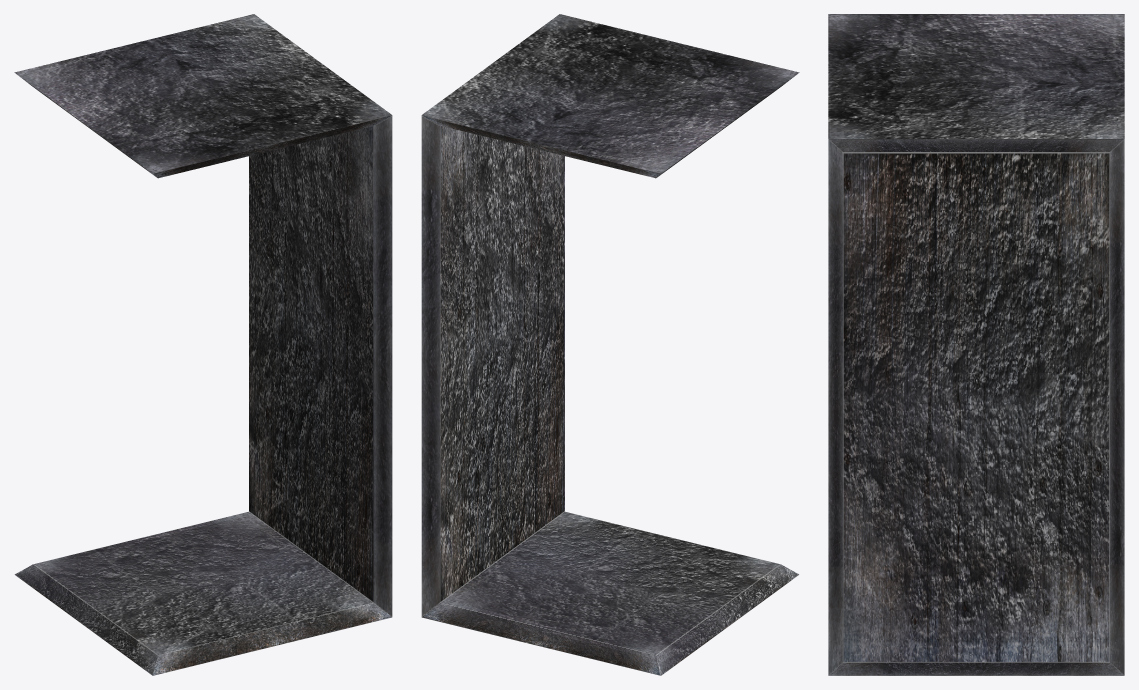
File: block3.fbx
The picture shows the model from 3 angles, left to right: view 1: azimuth 30°, elevation 25°; view 2: azimuth 150°, elevation 25°; view 3: azimuth 270°, elevation 25°; orthographic projection. The views are drawn at different scales.
Visible parts, largest first — view 1: Wall, Top, bottom:polySurface1, Frame; view 2: Wall, Top, bottom:polySurface1, Frame; view 3: Wall, Top, Frame.
Part boxes in pixels (x1=…): Wall: x1=249, y1=126, x2=373, y2=602; Top: x1=14, y1=14, x2=392, y2=178; bottom:polySurface1: x1=14, y1=511, x2=392, y2=675; Frame: x1=373, y1=116, x2=392, y2=616; Wall: x1=440, y1=126, x2=564, y2=602; Top: x1=421, y1=14, x2=799, y2=178; bottom:polySurface1: x1=421, y1=511, x2=799, y2=675; Frame: x1=421, y1=116, x2=440, y2=616; Wall: x1=843, y1=152, x2=1109, y2=662; Top: x1=828, y1=14, x2=1124, y2=139; Frame: x1=828, y1=139, x2=1124, y2=675.
Size of the model in its own units: 2 by 4 by 2.
